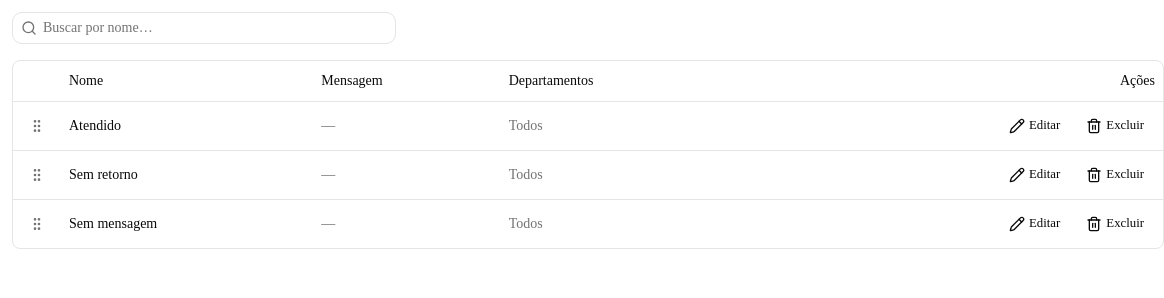
Test case: CloseReasonsTable › hint "Limpe os filtros para reordenar" aparece quando search está preenchido
This screenshot has width=1164, height=298.
Type "A" into the search field labelled "Buscar por nome…".
click(216, 28); type("A")  # box x1=37 y1=12 x2=395 y2=44
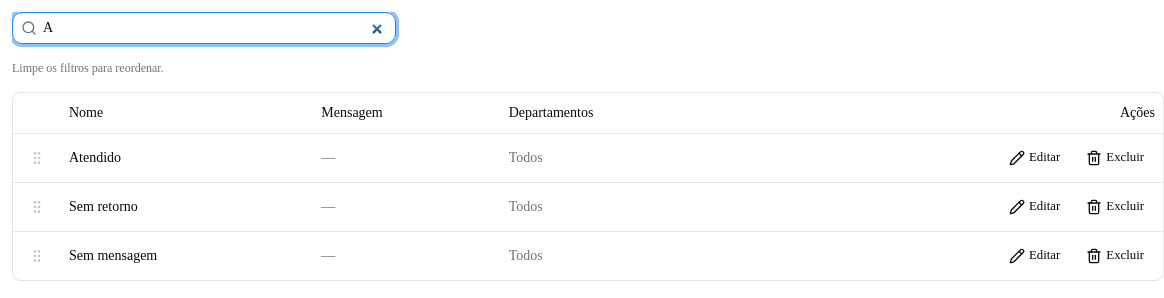
Expected: the text "Limpe os filtros para reordenar." is shown, x1=12 y1=61 x2=164 y2=75
